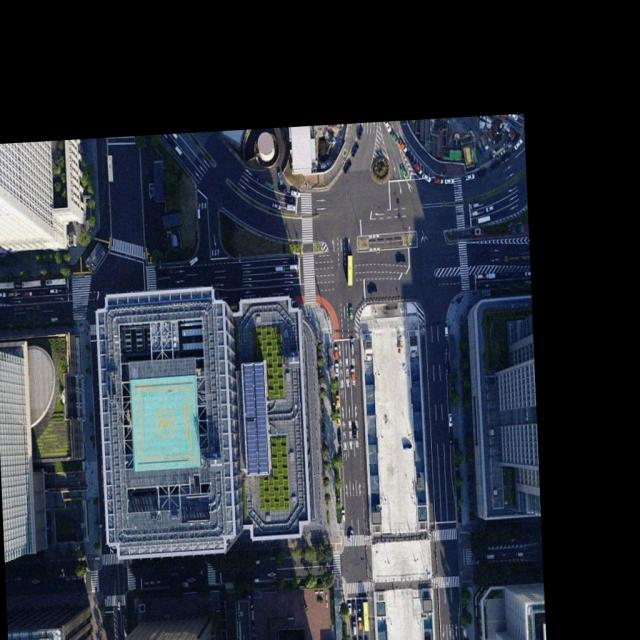helipad: (151, 405, 176, 439)
